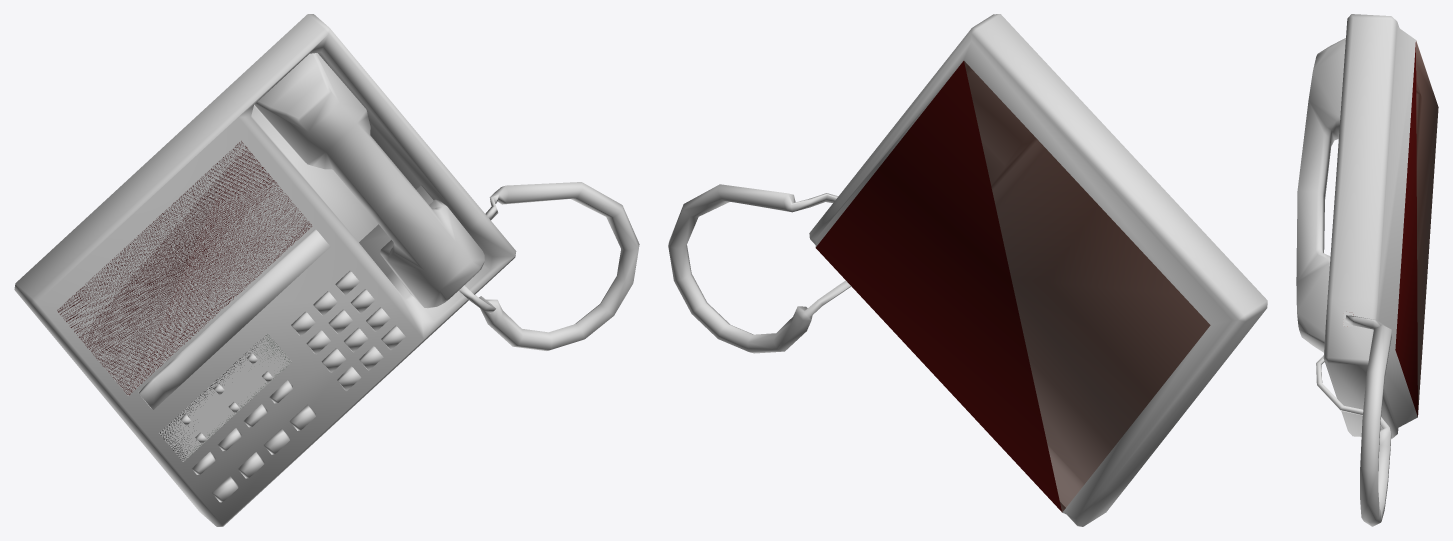
The picture shows the model from 3 angles, left to right: view 1: azimuth 30°, elevation 25°; view 2: azimuth 150°, elevation 25°; view 3: azimuth 270°, elevation 25°; orthographic projection.
Bounding box in the file's own units: 1.73 × 1.3 × 0.3545.
